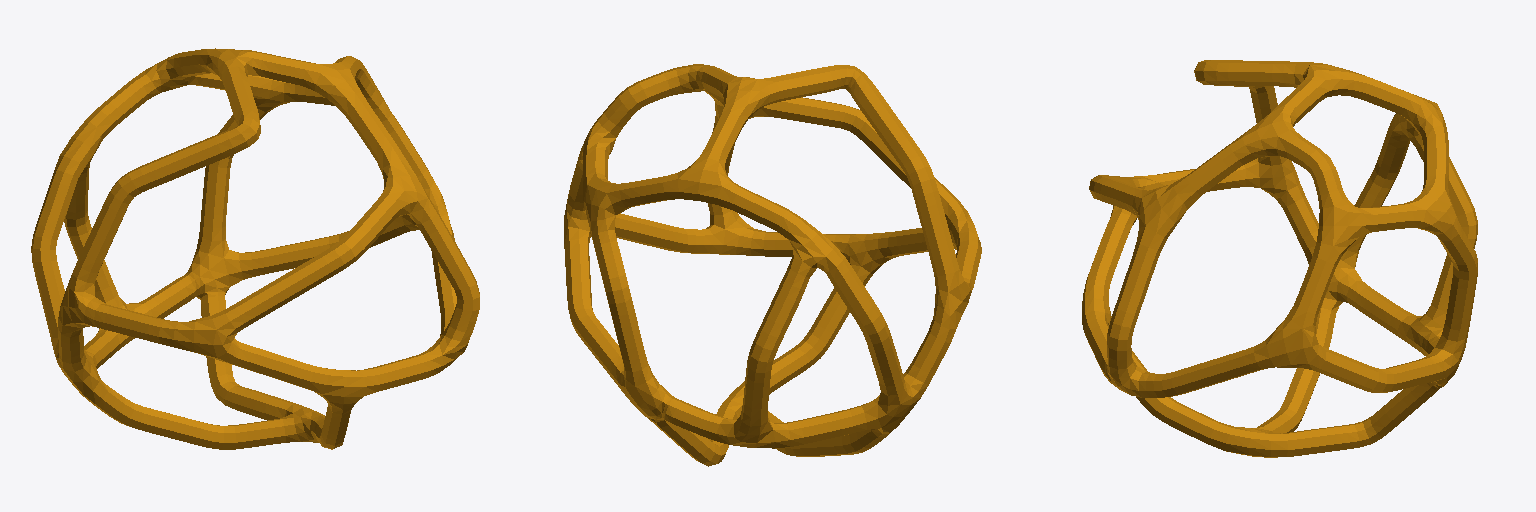
File: CellWall.obj
The picture shows the model from 3 angles: view 1: azimuth 30°, elevation 25°; view 2: azimuth 150°, elevation 25°; view 3: azimuth 270°, elevation 25°; orthographic projection.
Parts seen in each view (by area): view 1: CellWall; view 2: CellWall; view 3: CellWall.
Part boxes in pixels (bbox=[...]): CellWall: bbox=[31, 48, 479, 449]; CellWall: bbox=[564, 64, 981, 466]; CellWall: bbox=[1082, 60, 1477, 457].
Bounding box in the file's own units: 2.28 × 2.16 × 2.05.